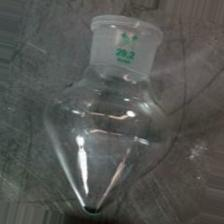Pear shaped flask: (21, 13, 180, 208)
